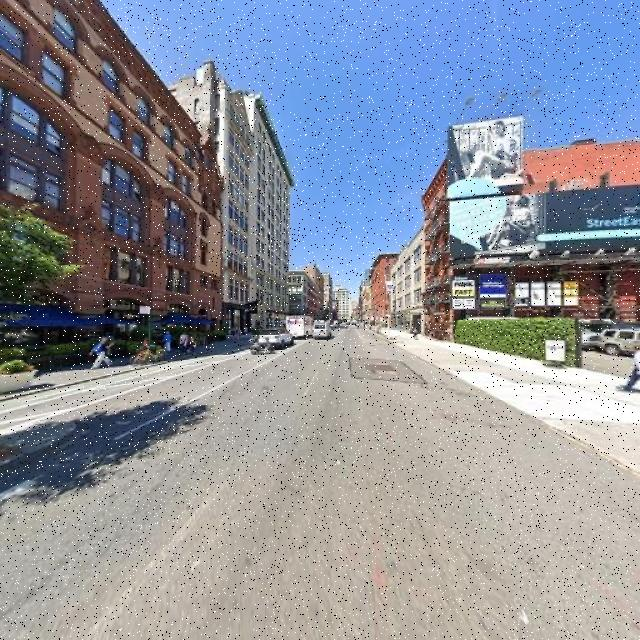Building: (1, 1, 223, 374), (227, 79, 288, 338), (429, 154, 455, 340)
